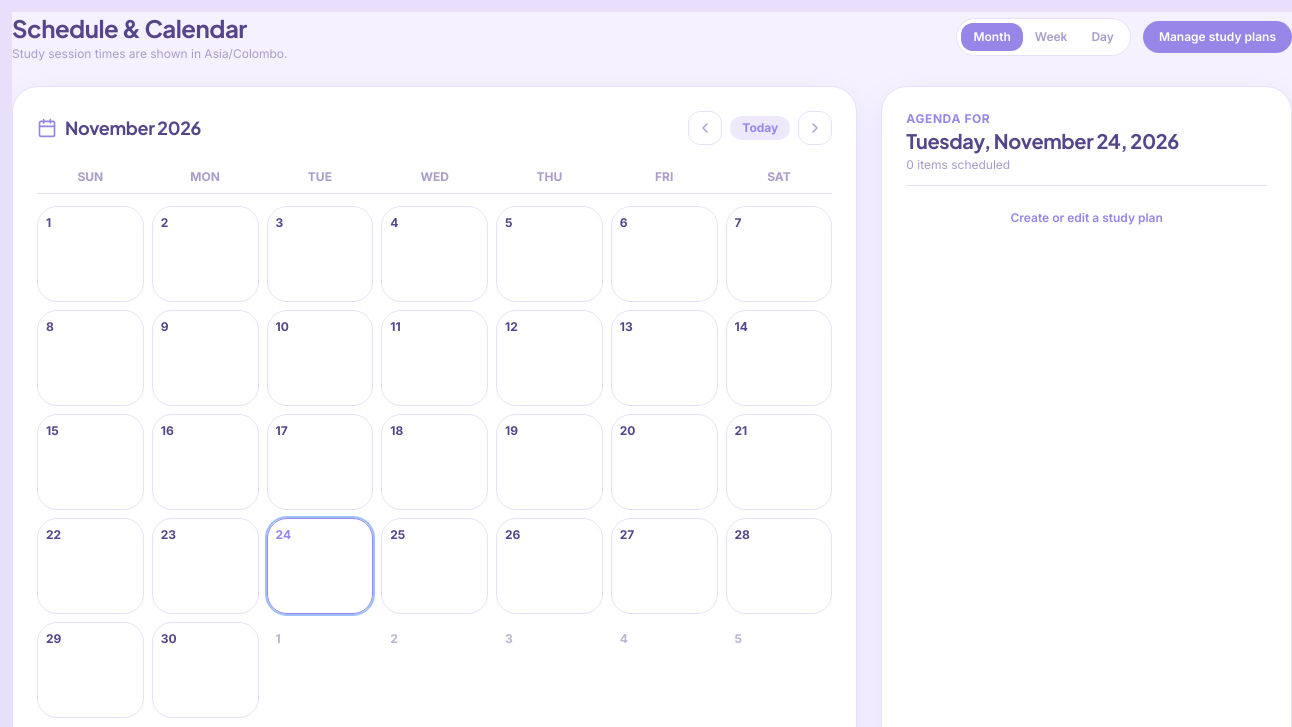
CalendarPage › loads saved plans and marks the backend nextSessionDate in the agenda
Click the button "25".
click(435, 566)  # box [381,518,488,614]
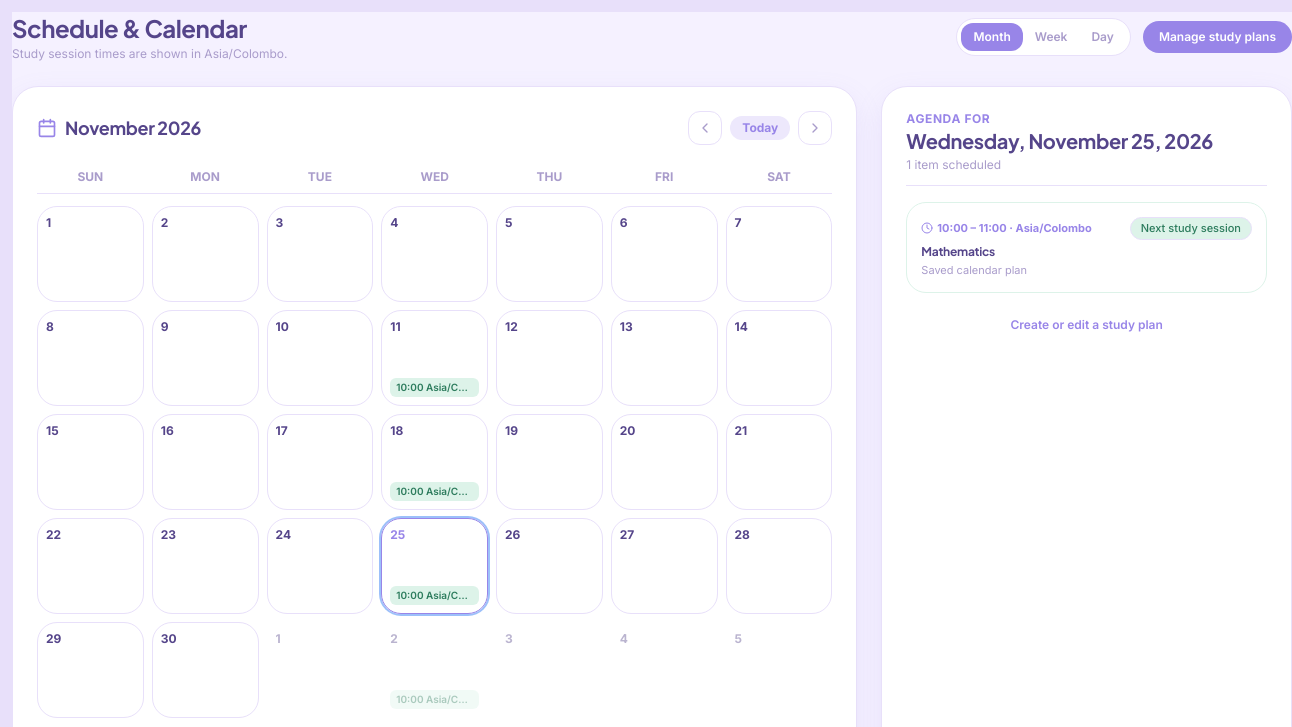
Result: the text "Next study session" is shown at [1130,217,1252,240]
Result: the heading "Mathematics" is shown at [921,244,995,258]
